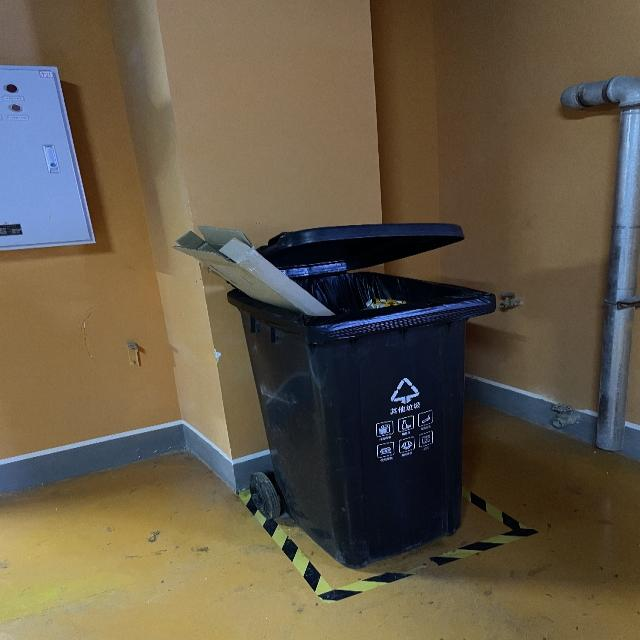overflow: (168, 221, 495, 568)
